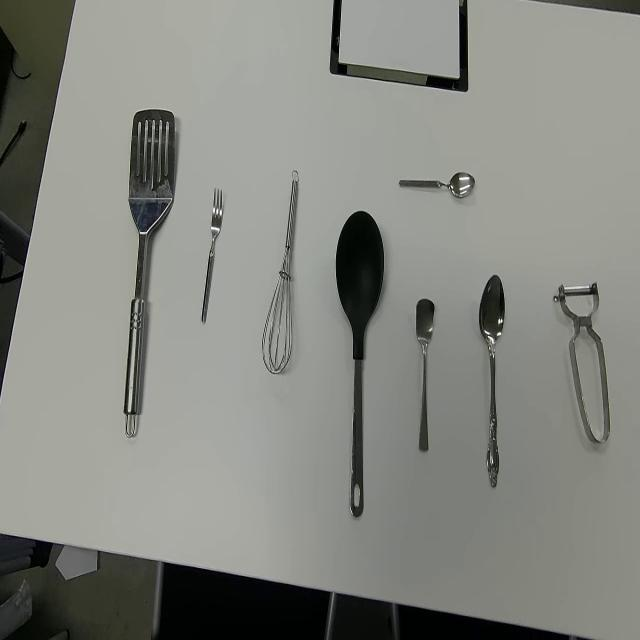Desert-Spoon: (478, 274, 506, 492)
Dinner-Fork: (200, 186, 224, 326)
Peeler: (551, 280, 611, 446)
Serving-Spoon: (122, 108, 176, 438), (335, 209, 386, 522)
Tea-Spoon: (414, 296, 436, 454), (398, 170, 476, 201)
Whisk: (261, 168, 300, 376)
